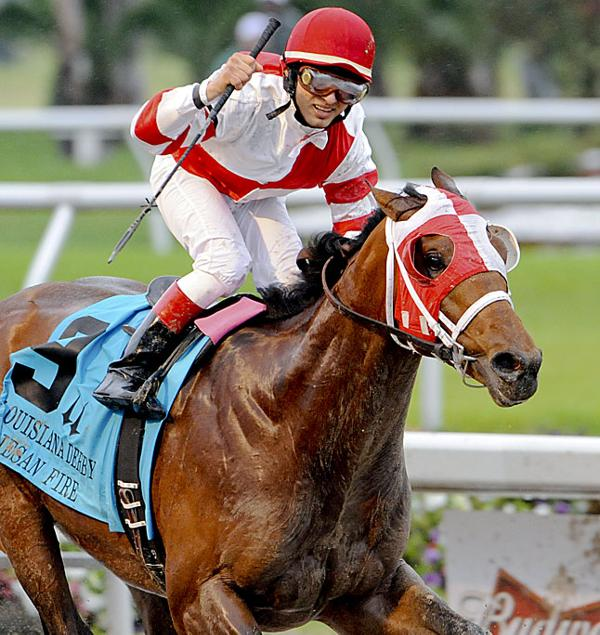person: (91, 3, 385, 421)
